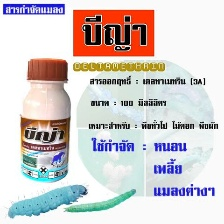insecticide: (17, 55, 72, 187)
